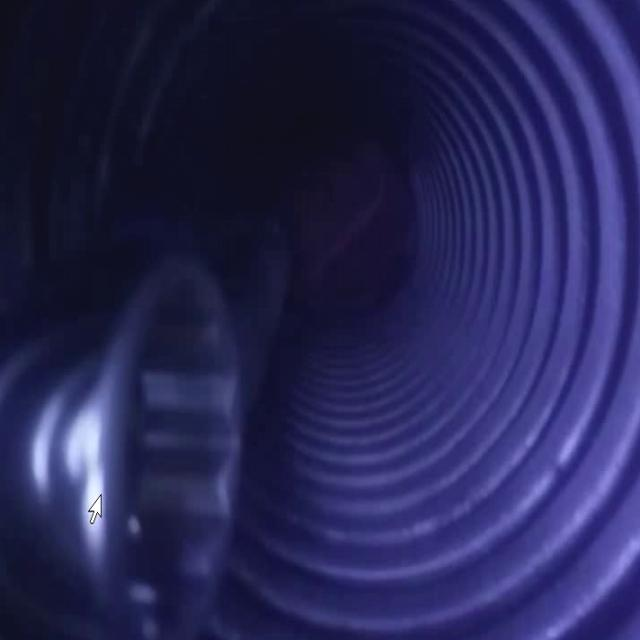metal piece: (0, 249, 243, 640)
